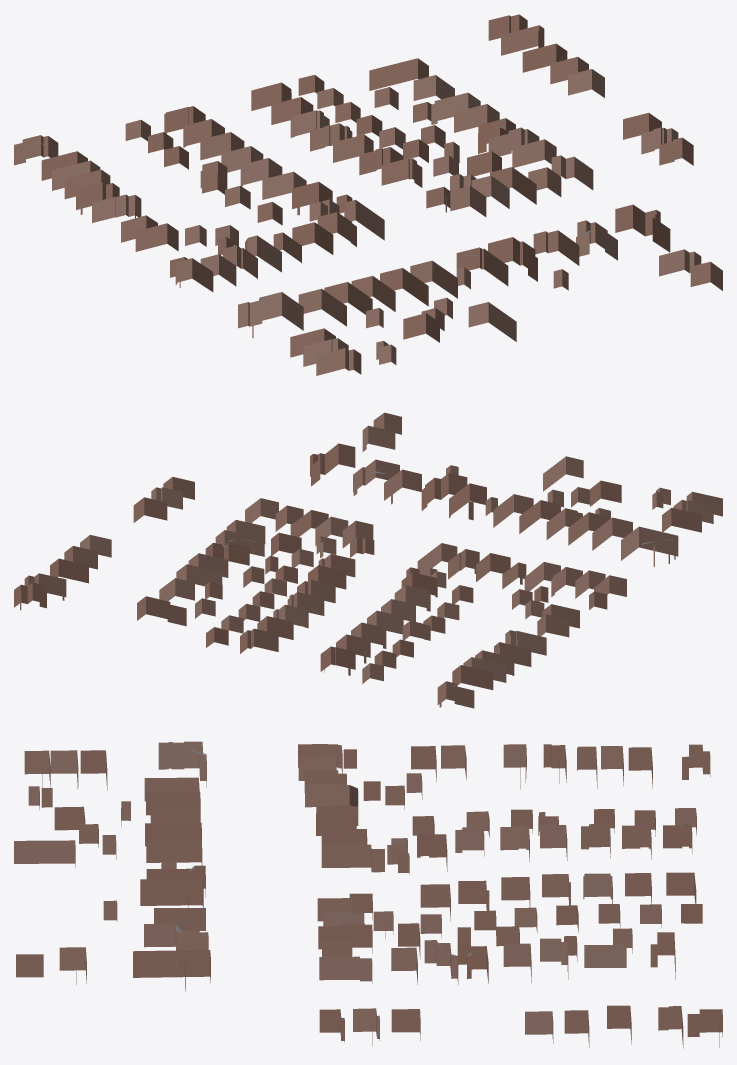
File: c_1640_17828_buildings_residential.glb
3 views of the same model, one above another, from view 1: azimuth 30°, elevation 25°; view 2: azimuth 150°, elevation 25°; view 3: azimuth 270°, elevation 25° (orthographic). The views are drawn at different scales.
Visible parts, largest first — view 1: geometry_0; view 2: geometry_0; view 3: geometry_0.
Part boxes in pixels (left/top/right/bottom): geometry_0: left=14, top=14, right=722, bottom=375; geometry_0: left=14, top=412, right=722, bottom=708; geometry_0: left=14, top=741, right=722, bottom=1048.
Bounding box in the file's own units: 250 × 11.08 × 264.
